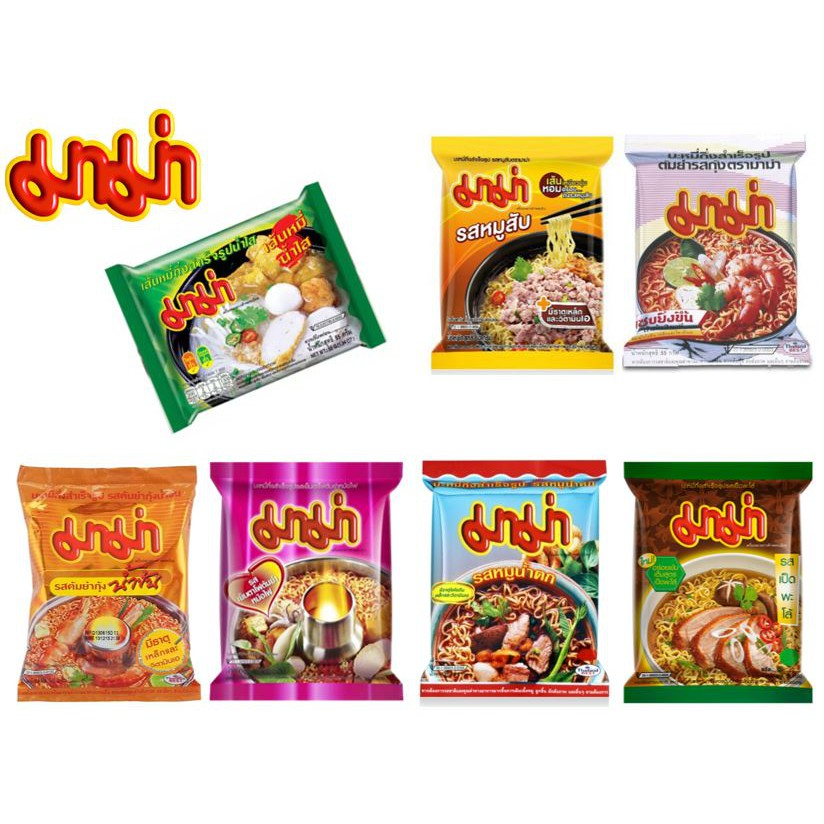Snack: (421, 123, 623, 382)
